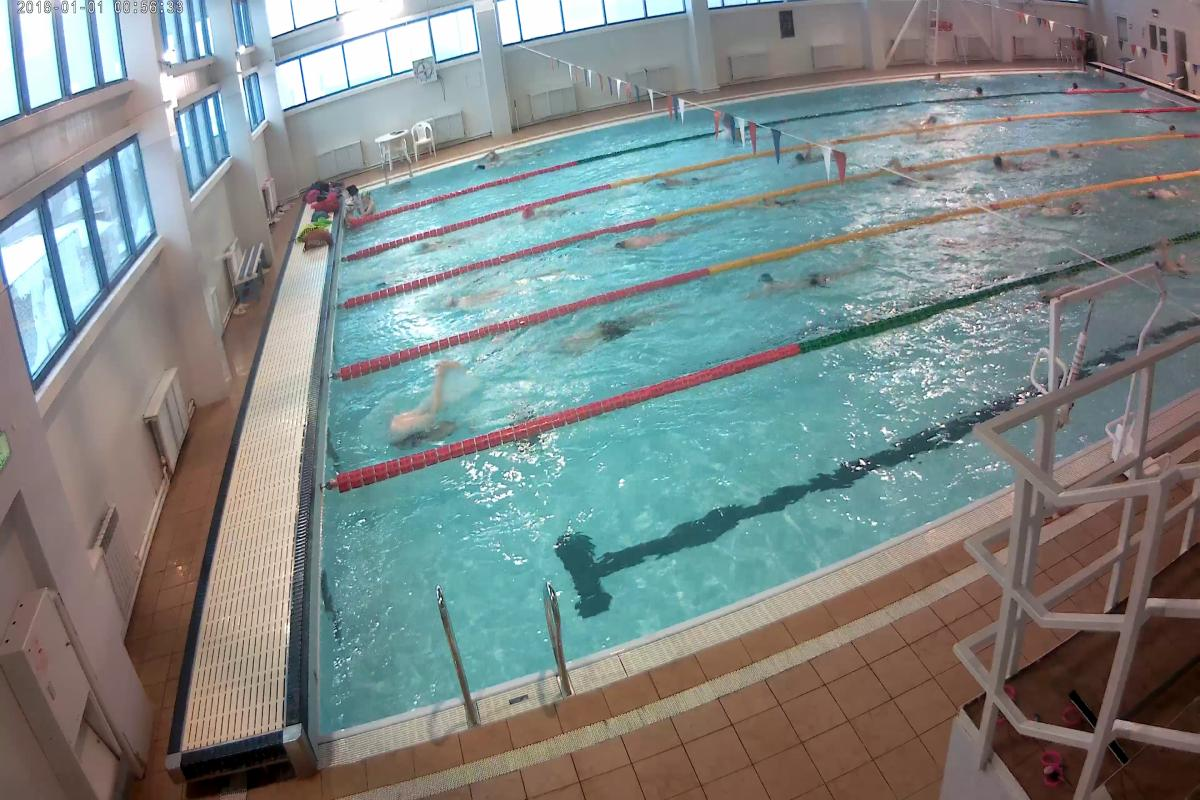swimmer: (375, 359, 467, 448), (745, 260, 877, 301), (552, 308, 661, 357), (611, 225, 689, 258), (512, 198, 574, 236), (645, 170, 712, 196), (1133, 182, 1195, 206), (1028, 198, 1092, 219), (784, 139, 820, 170), (989, 152, 1032, 176)
